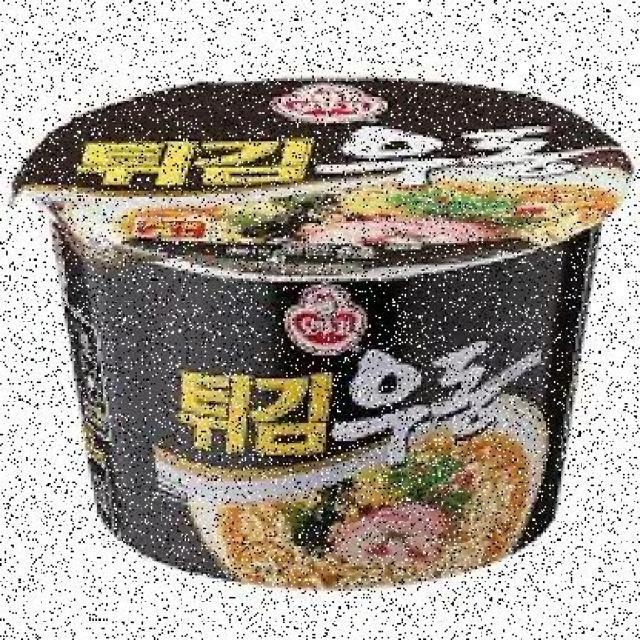Miscellaneous: (46, 93, 628, 573)
